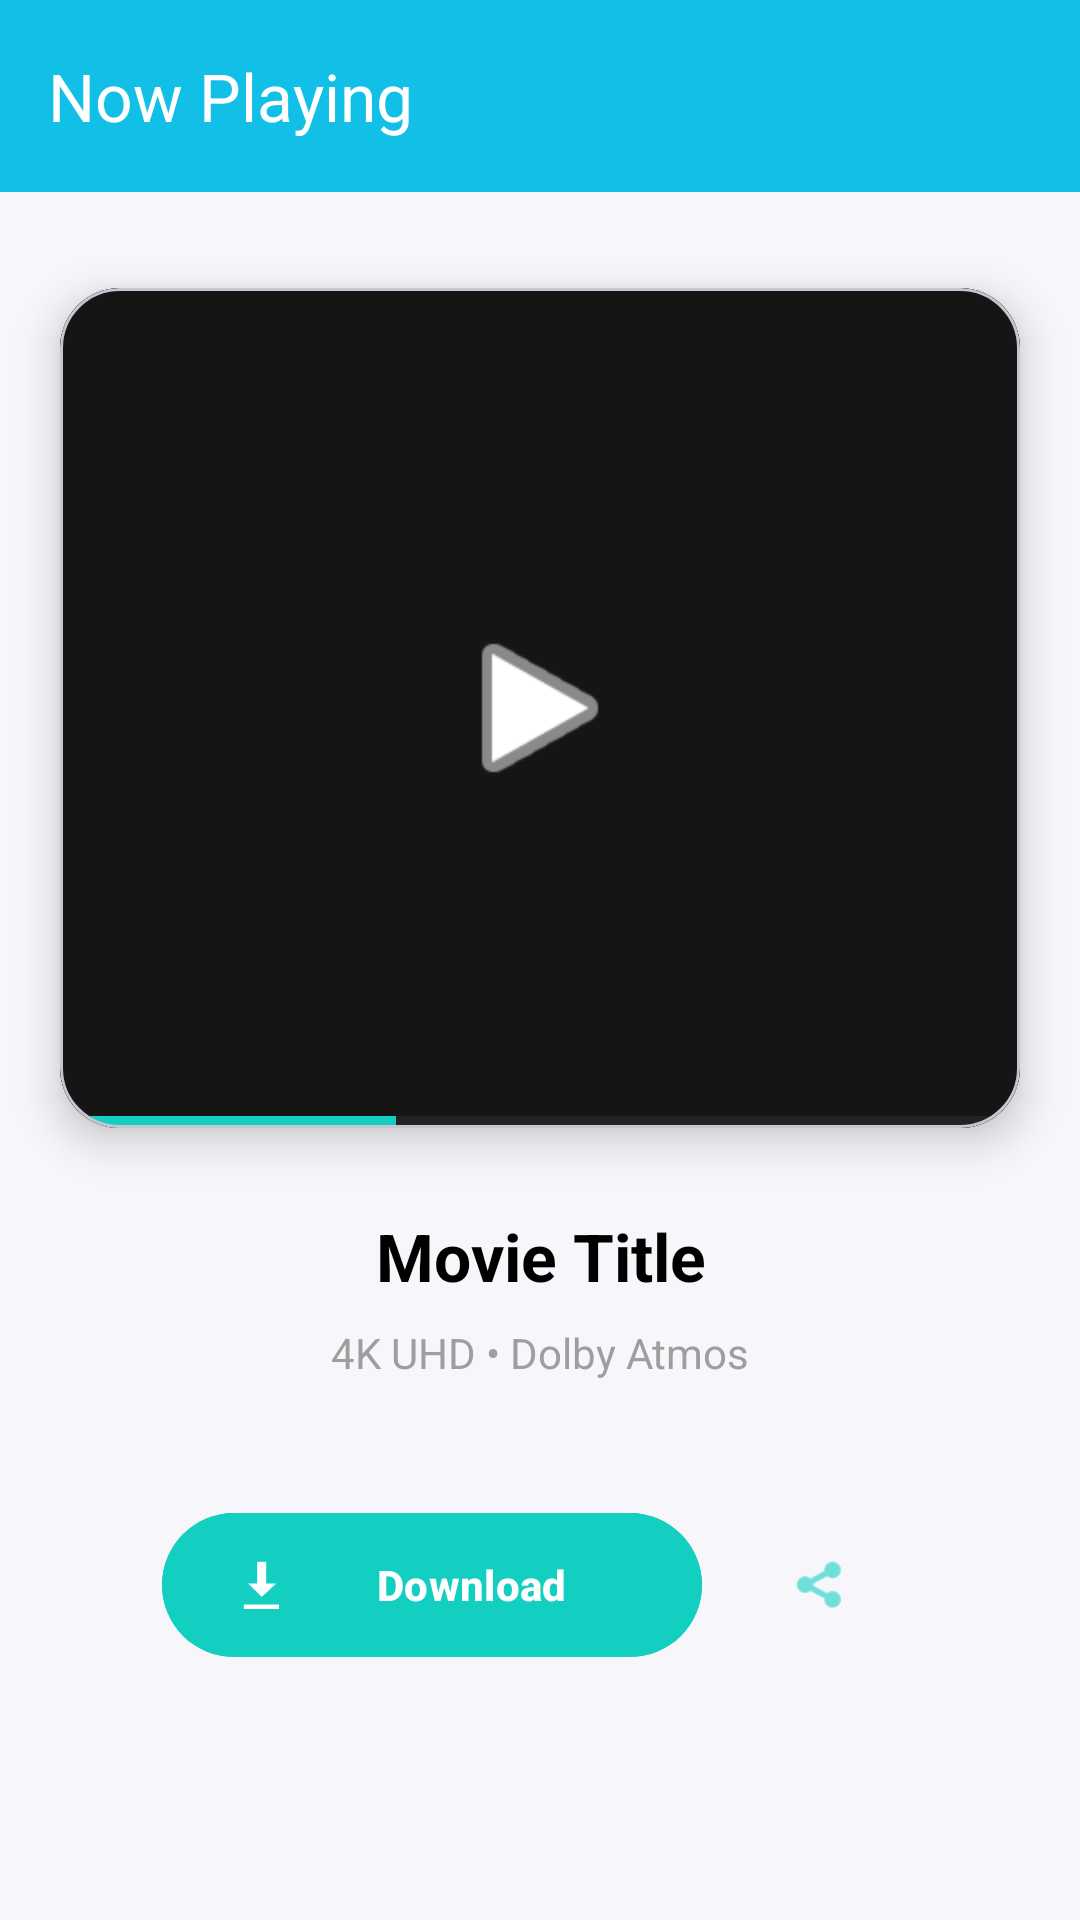

Where icons sit on this 1080px x 1920px app screen, as (x1, y1, x2, y2):
Play: (481, 643, 599, 773)
Share: (796, 1561, 841, 1608)
